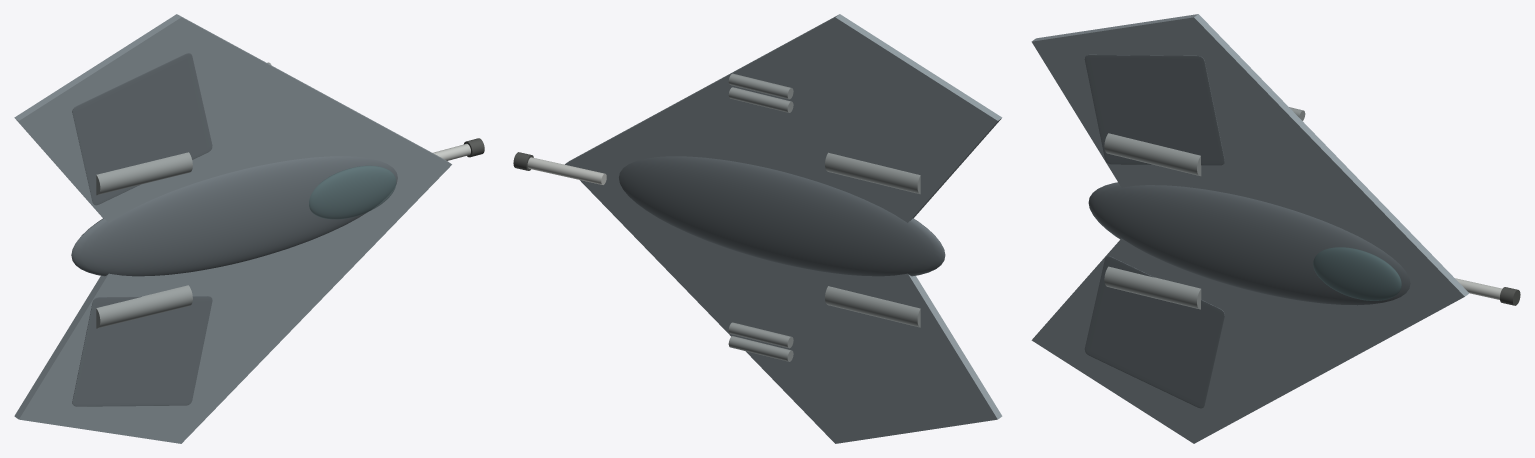
File: s-u29-specter-stealth-striker-lod1.glb
3 views of the same model, side by side, from view 1: azimuth 30°, elevation 25°; view 2: azimuth 150°, elevation 25°; view 3: azimuth 330°, elevation 25° (orthographic).
Visible parts, largest first — view 1: flying_wing_planform, flying_wing_core, flying_wing_elevon_1, flying_wing_elevon_-1, flying_wing_canopy, flying_wing_engine_0, flying_wing_engine_1; view 2: flying_wing_planform, flying_wing_core, flying_wing_engine_1, flying_wing_engine_0, flying_wing_gun_barrel_0, flying_wing_-1_tube_1, flying_wing_1_tube_2, flying_wing_-1_tube_2, flying_wing_1_tube_1; view 3: flying_wing_planform, flying_wing_core, flying_wing_elevon_1, flying_wing_elevon_-1, flying_wing_canopy, flying_wing_engine_0, flying_wing_engine_1, flying_wing_gun_barrel_0.
Boxes of the visible parts, x1,y1,x2,y2 form: flying_wing_planform: [14, 14, 451, 443]; flying_wing_core: [71, 156, 397, 276]; flying_wing_elevon_1: [72, 53, 212, 205]; flying_wing_elevon_-1: [72, 296, 212, 406]; flying_wing_canopy: [309, 165, 396, 219]; flying_wing_engine_0: [96, 285, 192, 328]; flying_wing_engine_1: [96, 152, 192, 195]; flying_wing_planform: [565, 14, 1002, 443]; flying_wing_core: [619, 156, 945, 276]; flying_wing_engine_1: [825, 152, 920, 194]; flying_wing_engine_0: [825, 286, 920, 327]; flying_wing_gun_barrel_0: [527, 157, 606, 184]; flying_wing_-1_tube_1: [728, 336, 793, 361]; flying_wing_1_tube_2: [728, 73, 793, 99]; flying_wing_-1_tube_2: [728, 322, 793, 348]; flying_wing_1_tube_1: [728, 87, 793, 112]; flying_wing_planform: [1031, 14, 1469, 443]; flying_wing_core: [1088, 182, 1410, 305]; flying_wing_elevon_1: [1084, 54, 1224, 165]; flying_wing_elevon_-1: [1084, 256, 1224, 408]; flying_wing_canopy: [1313, 247, 1401, 300]; flying_wing_engine_0: [1104, 266, 1201, 309]; flying_wing_engine_1: [1104, 133, 1201, 176]; flying_wing_gun_barrel_0: [1455, 278, 1501, 299].
Size of what is drawn, in the model's own units: 14.85 by 12.78 by 1.3.
